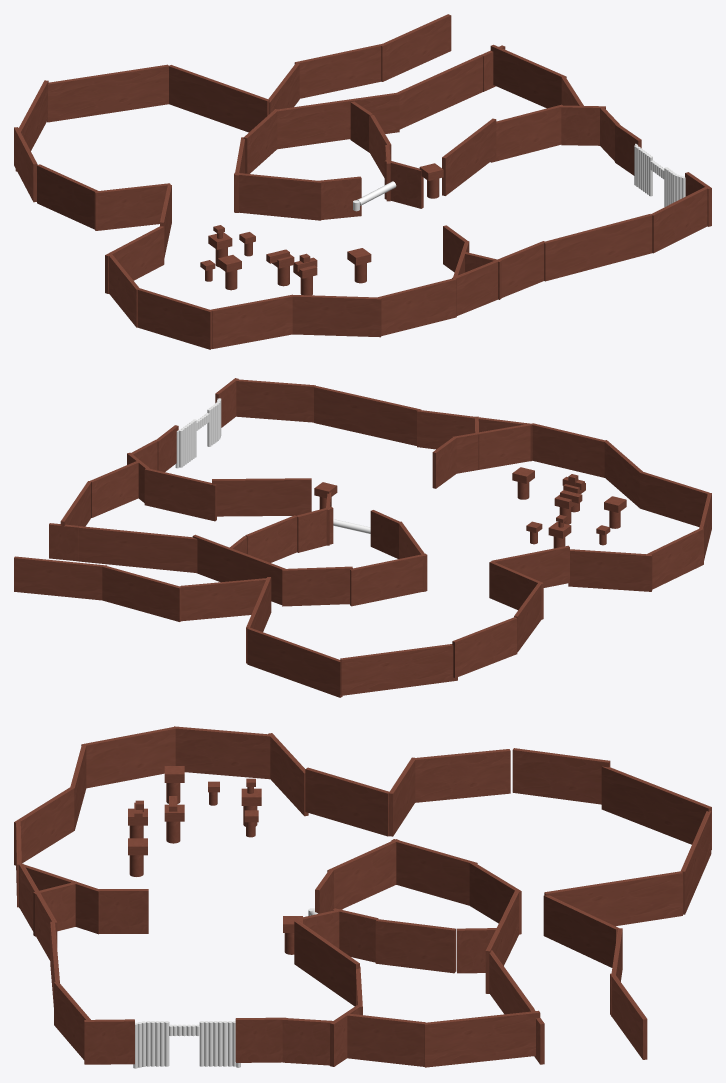
Rendered from Level.fbx.
3 views of the same model, one above another, from view 1: azimuth 30°, elevation 25°; view 2: azimuth 150°, elevation 25°; view 3: azimuth 270°, elevation 25° (orthographic). The views are drawn at different scales.
Visible parts, largest first — view 1: Cube__8_, Cube__35_, Cube__1_, Cube__6_, Cube__20_, Cube__33_, Cube__24_, Cube__19_, Cube__2_, Cube__4_, Cube__21_, Cube__18_ (+22 smaller); view 2: Cube__9_, Cube__2_, Cube__35_, Cube__37_, Cube__8_, Cube__3_, Cube__16_, Cube__36_, Cube__4_, Cube__22_, Cube__13_, Cube__5_ (+23 smaller); view 3: Cube__41_, Cube__6_, Cube__9_, Cube__11_, Cube__17_, Cube__10_, Cube__18_, Cube__15_, Cube__27_, Cube__40_, Cube__13_, Cube__5_ (+24 smaller).
Part boxes in pixels (x1,y1,x2,y2): Cube__8_: [47, 64, 168, 122]; Cube__35_: [544, 214, 652, 281]; Cube__1_: [276, 92, 399, 149]; Cube__6_: [169, 65, 269, 132]; Cube__20_: [292, 295, 381, 337]; Cube__33_: [452, 241, 545, 315]; Cube__24_: [234, 172, 321, 220]; Cube__19_: [211, 294, 293, 348]; Cube__2_: [397, 55, 482, 129]; Cube__4_: [294, 44, 386, 98]; Cube__21_: [378, 278, 456, 335]; Cube__18_: [137, 288, 211, 349]; Cube__9_: [340, 644, 457, 695]; Cube__2_: [78, 526, 197, 572]; Cube__35_: [314, 386, 421, 445]; Cube__37_: [212, 478, 311, 516]; Cube__8_: [247, 627, 342, 697]; Cube__3_: [14, 556, 106, 600]; Cube__16_: [568, 549, 652, 591]; Cube__36_: [236, 379, 315, 422]; Cube__4_: [101, 566, 181, 621]; Cube__22_: [453, 423, 532, 473]; Cube__13_: [349, 553, 427, 606]; Cube__5_: [180, 578, 266, 621]; Cube__41_: [424, 1010, 540, 1067]; Cube__6_: [544, 871, 682, 926]; Cube__9_: [601, 766, 711, 849]; Cube__11_: [411, 749, 510, 802]; Cube__17_: [173, 726, 272, 779]; Cube__10_: [512, 748, 610, 804]; Cube__18_: [81, 727, 175, 788]; Cube__15_: [305, 767, 390, 836]; Cube__27_: [375, 919, 455, 973]; Cube__40_: [347, 1013, 425, 1066]; Cube__13_: [391, 839, 477, 905]; Cube__5_: [543, 895, 618, 967].
Bounding box in the file's own units: 15020 × 1384 × 14847.
